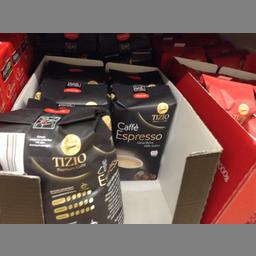coffee: (0, 108, 122, 222), (107, 70, 176, 180)
